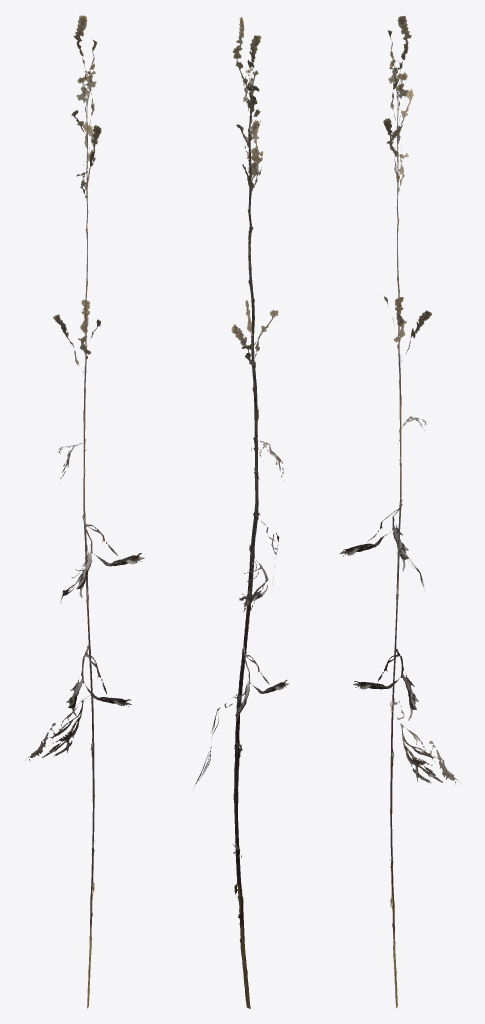
The model's file is desert_reed_1_9.FBX.
3 renders of one model, left to right at view 1: azimuth 90°, elevation 25°; view 2: azimuth 150°, elevation 25°; view 3: azimuth 270°, elevation 25°, orthographic.
Visible parts, largest first — view 1: desert_reed_1_9; view 2: desert_reed_1_9; view 3: desert_reed_1_9.
Boxes of the visible parts, x1,y1,x2,y2 form: desert_reed_1_9: (26,15,144,1008); desert_reed_1_9: (194,17,288,1008); desert_reed_1_9: (340,16,461,1008).
Bounding box in the file's own units: 7.93 × 82.04 × 10.73.
1 material, 1 textured.
